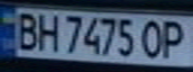4: (81, 13, 103, 55)
5: (115, 16, 139, 58)
7: (60, 12, 84, 53), (97, 15, 118, 56)
B: (9, 9, 42, 51)
H: (33, 10, 60, 52)
O: (139, 17, 169, 59)
P: (157, 17, 190, 60)
